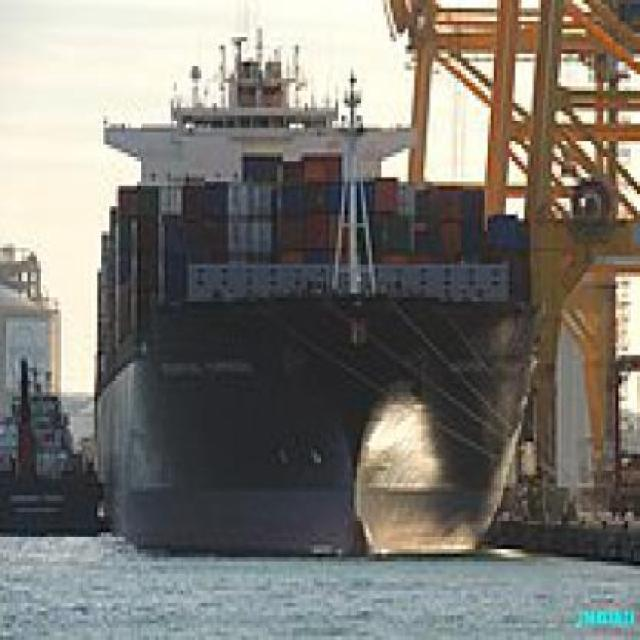container: (93, 30, 547, 563)
